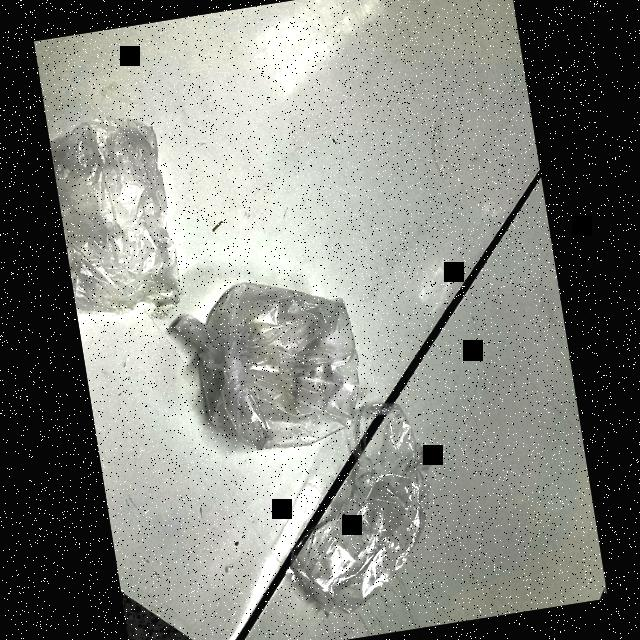plastic_bag: (266, 388, 467, 634), (172, 263, 376, 481)
scrap_plastic: (46, 104, 186, 323)
